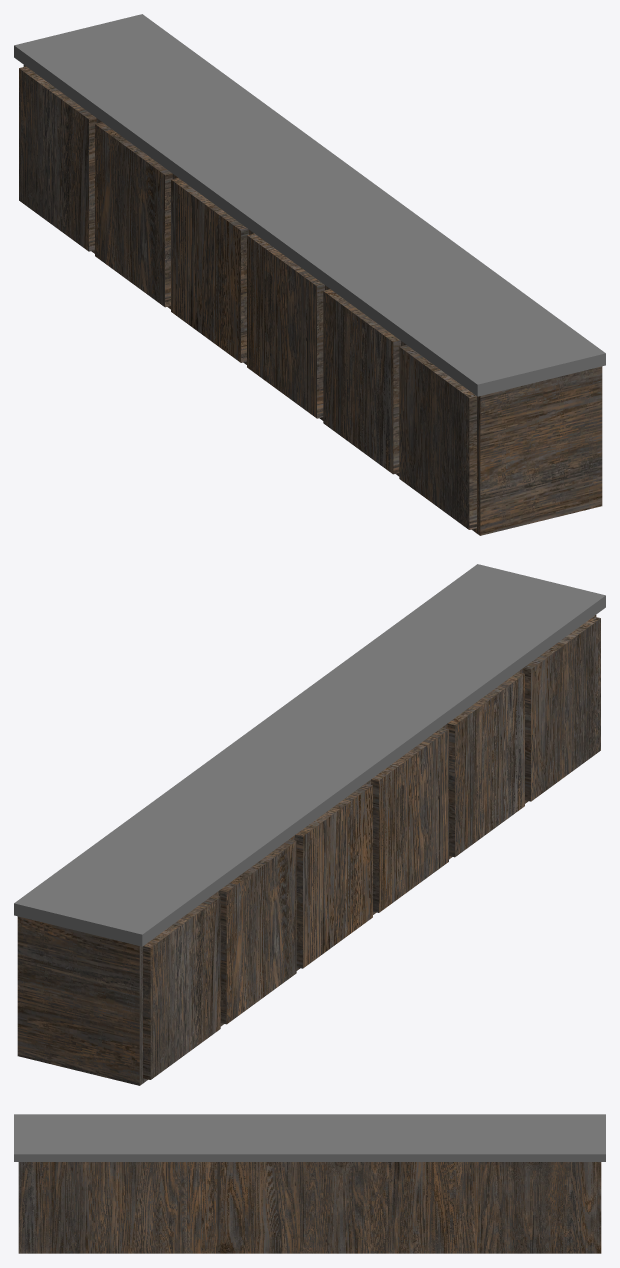
Rendered from Cabinet_04.fbx.
3 views of the same model, one above another, from view 1: azimuth 30°, elevation 25°; view 2: azimuth 150°, elevation 25°; view 3: azimuth 270°, elevation 25° (orthographic). The views are drawn at different scales.
Parts seen in each view (by area): view 1: propCabinet_04; view 2: propCabinet_04; view 3: propCabinet_04.
Part boxes in pixels (left/top/right/bottom): propCabinet_04: left=14, top=14, right=605, bottom=535; propCabinet_04: left=14, top=564, right=605, bottom=1085; propCabinet_04: left=14, top=1114, right=605, bottom=1253.
Size of the model in its own units: 74.27 by 84.7 by 458.
2 materials, 1 textured.
